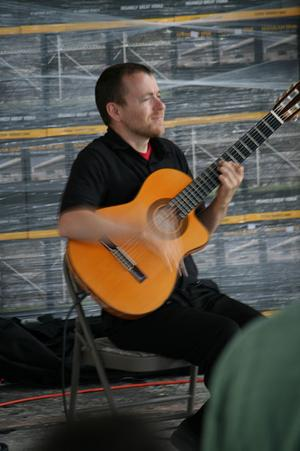person: (59, 63, 271, 445)
